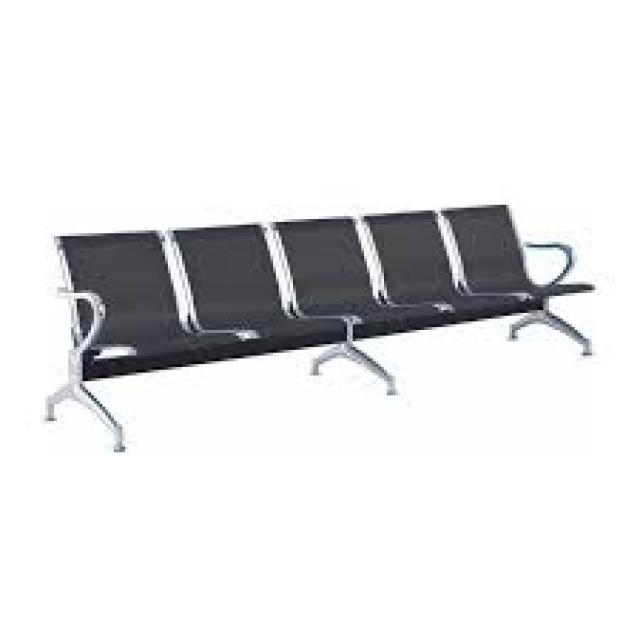chair: (45, 203, 592, 454)
